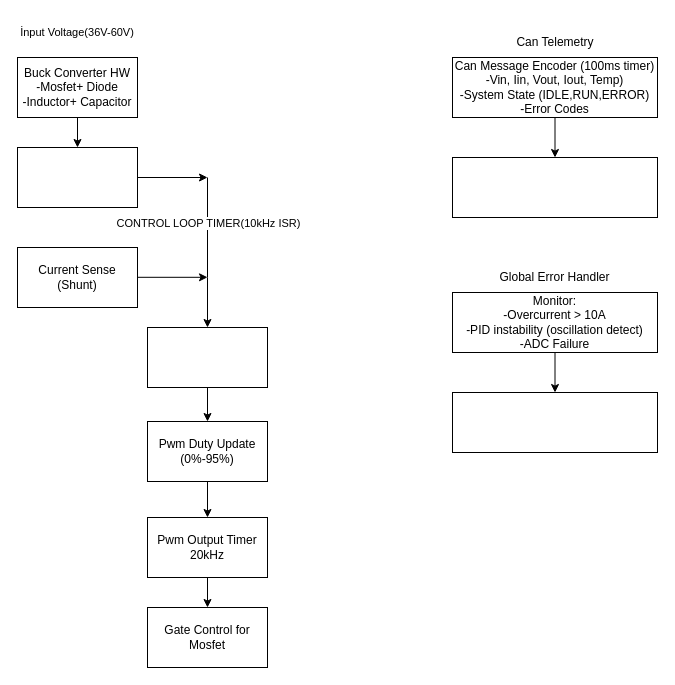
This 675x685 diagram has some shape labels left out. The box of each missing label's shape, as (x1, y1, x2, y2) in pixels:
CAN Transmit (DBC Format): (452, 156, 658, 218)
PID/PI Voltage Control (error=Vref-Vout): (146, 326, 268, 388)
System State Manager IDLE/RUNNING/ERROR: (452, 392, 658, 452)
Voltage Divider: (16, 146, 138, 208)
